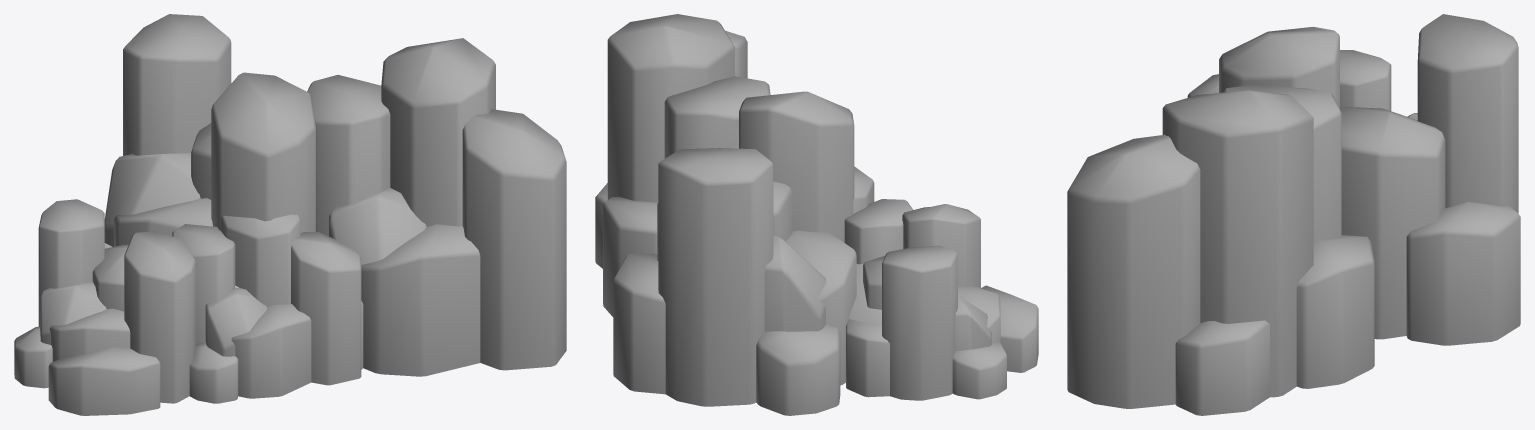
The model's file is Mount_v1.fbx.
3 renders of one model, left to right at view 1: azimuth 30°, elevation 25°; view 2: azimuth 150°, elevation 25°; view 3: azimuth 270°, elevation 25°, orthographic. The views are drawn at different scales.
Visible parts, largest first — view 1: Mount.005; view 2: Mount.005; view 3: Mount.005.
Part boxes in pixels (bbox=[...]): Mount.005: bbox=[14, 14, 566, 415]; Mount.005: bbox=[595, 14, 1038, 415]; Mount.005: bbox=[1067, 14, 1520, 415].
Bounding box in the file's own units: 28.68 × 15.54 × 22.69.
